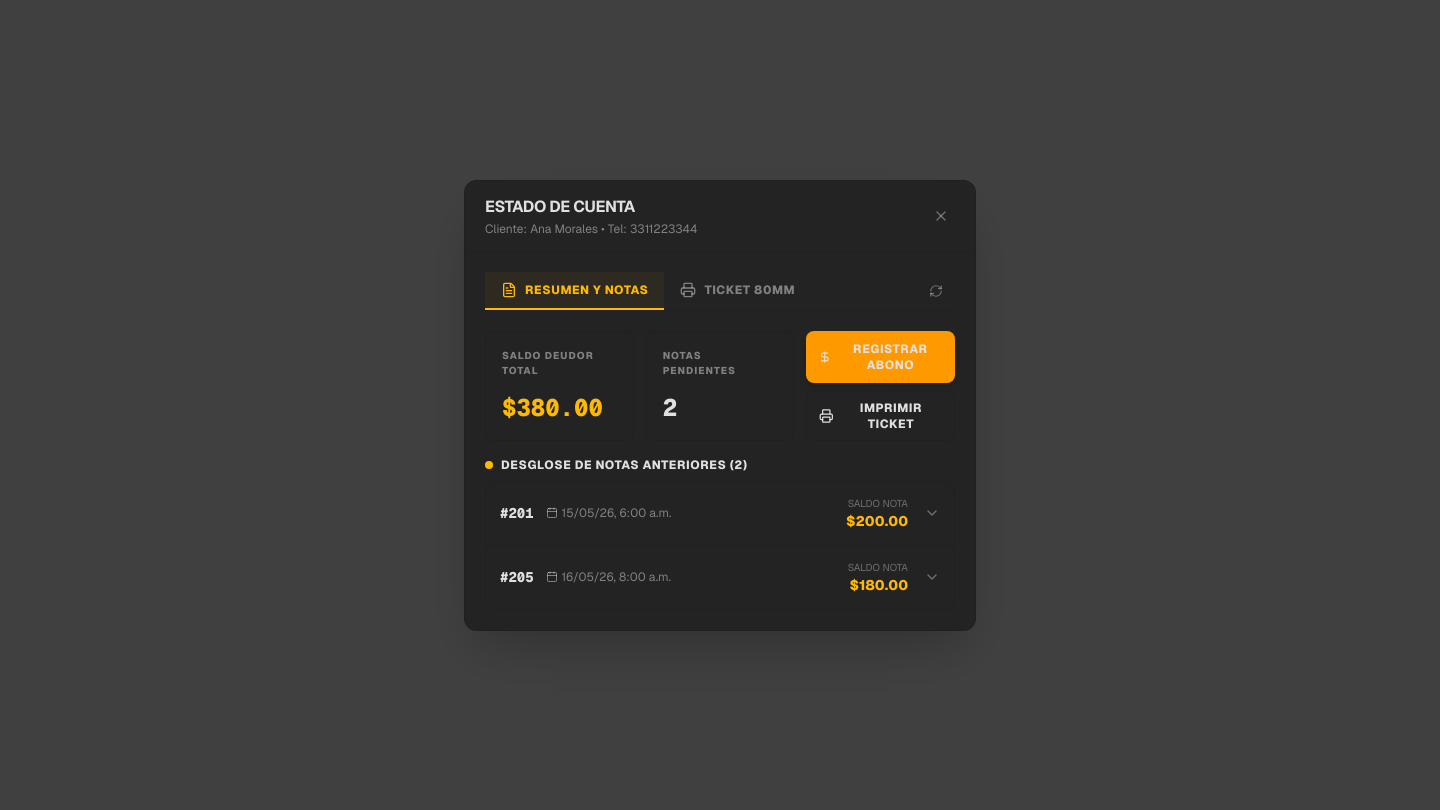
it: CustomerAccountModal Component › expands note to view product items and abonos
The width and height of the screenshot is (1440, 810).
Click the text "#201" at (517, 513), box [500,503,534,523]
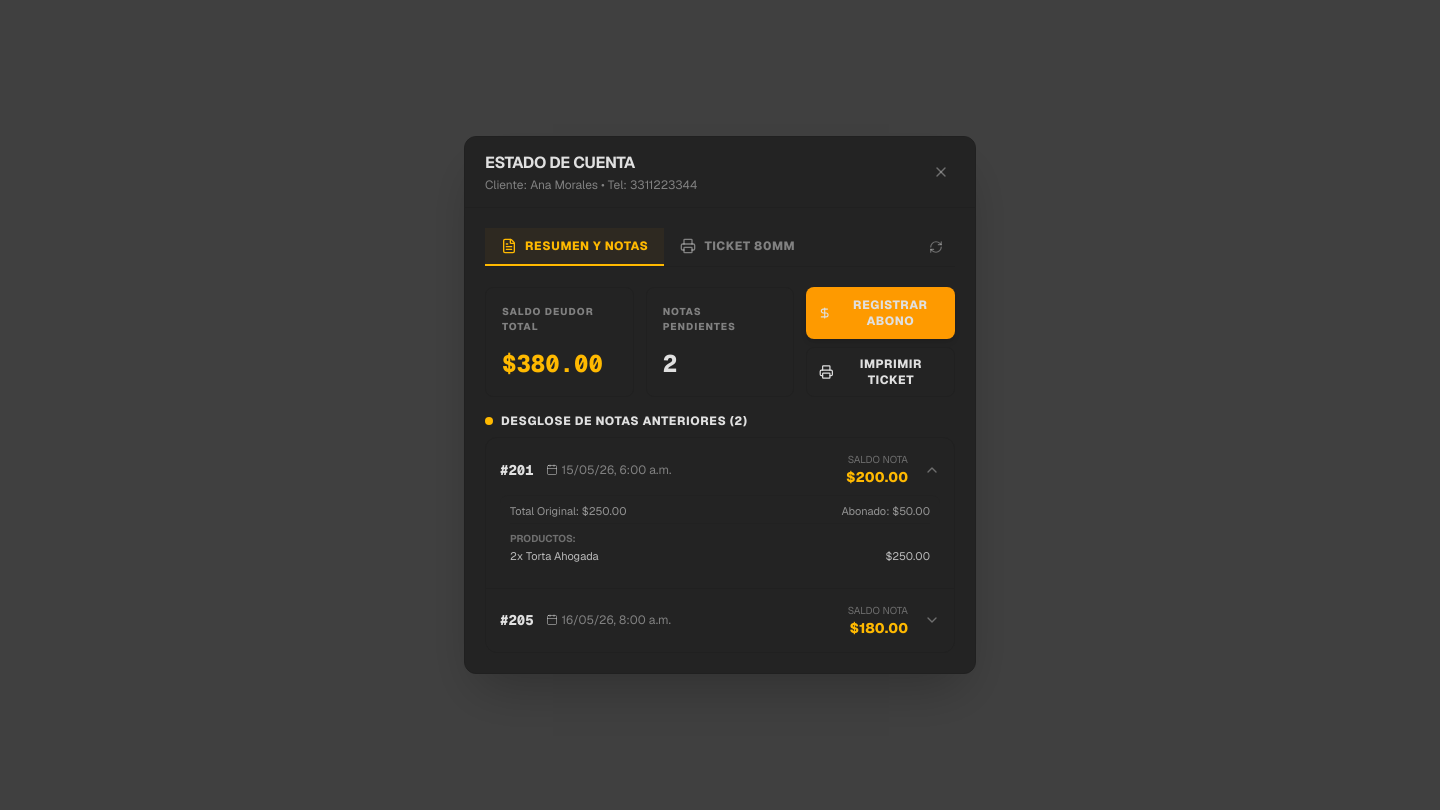
Expected: the text "2x Torta Ahogada" is shown, [510,549,599,564]
Expected: the text "Total Original: $250.00" is shown, [510,504,626,519]
Expected: the text "Abonado: $50.00" is shown, [841,504,930,519]
